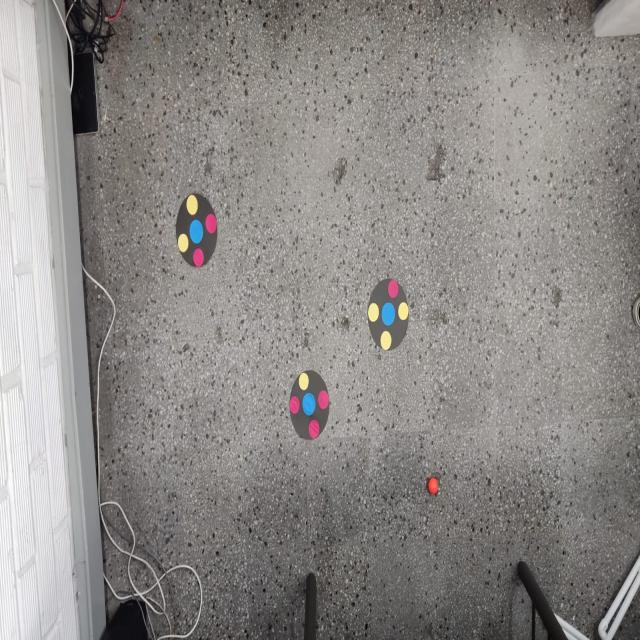0: (289, 370, 330, 442)
1: (176, 193, 218, 268)
2: (367, 277, 409, 352)
Ball: (428, 476, 438, 497)
